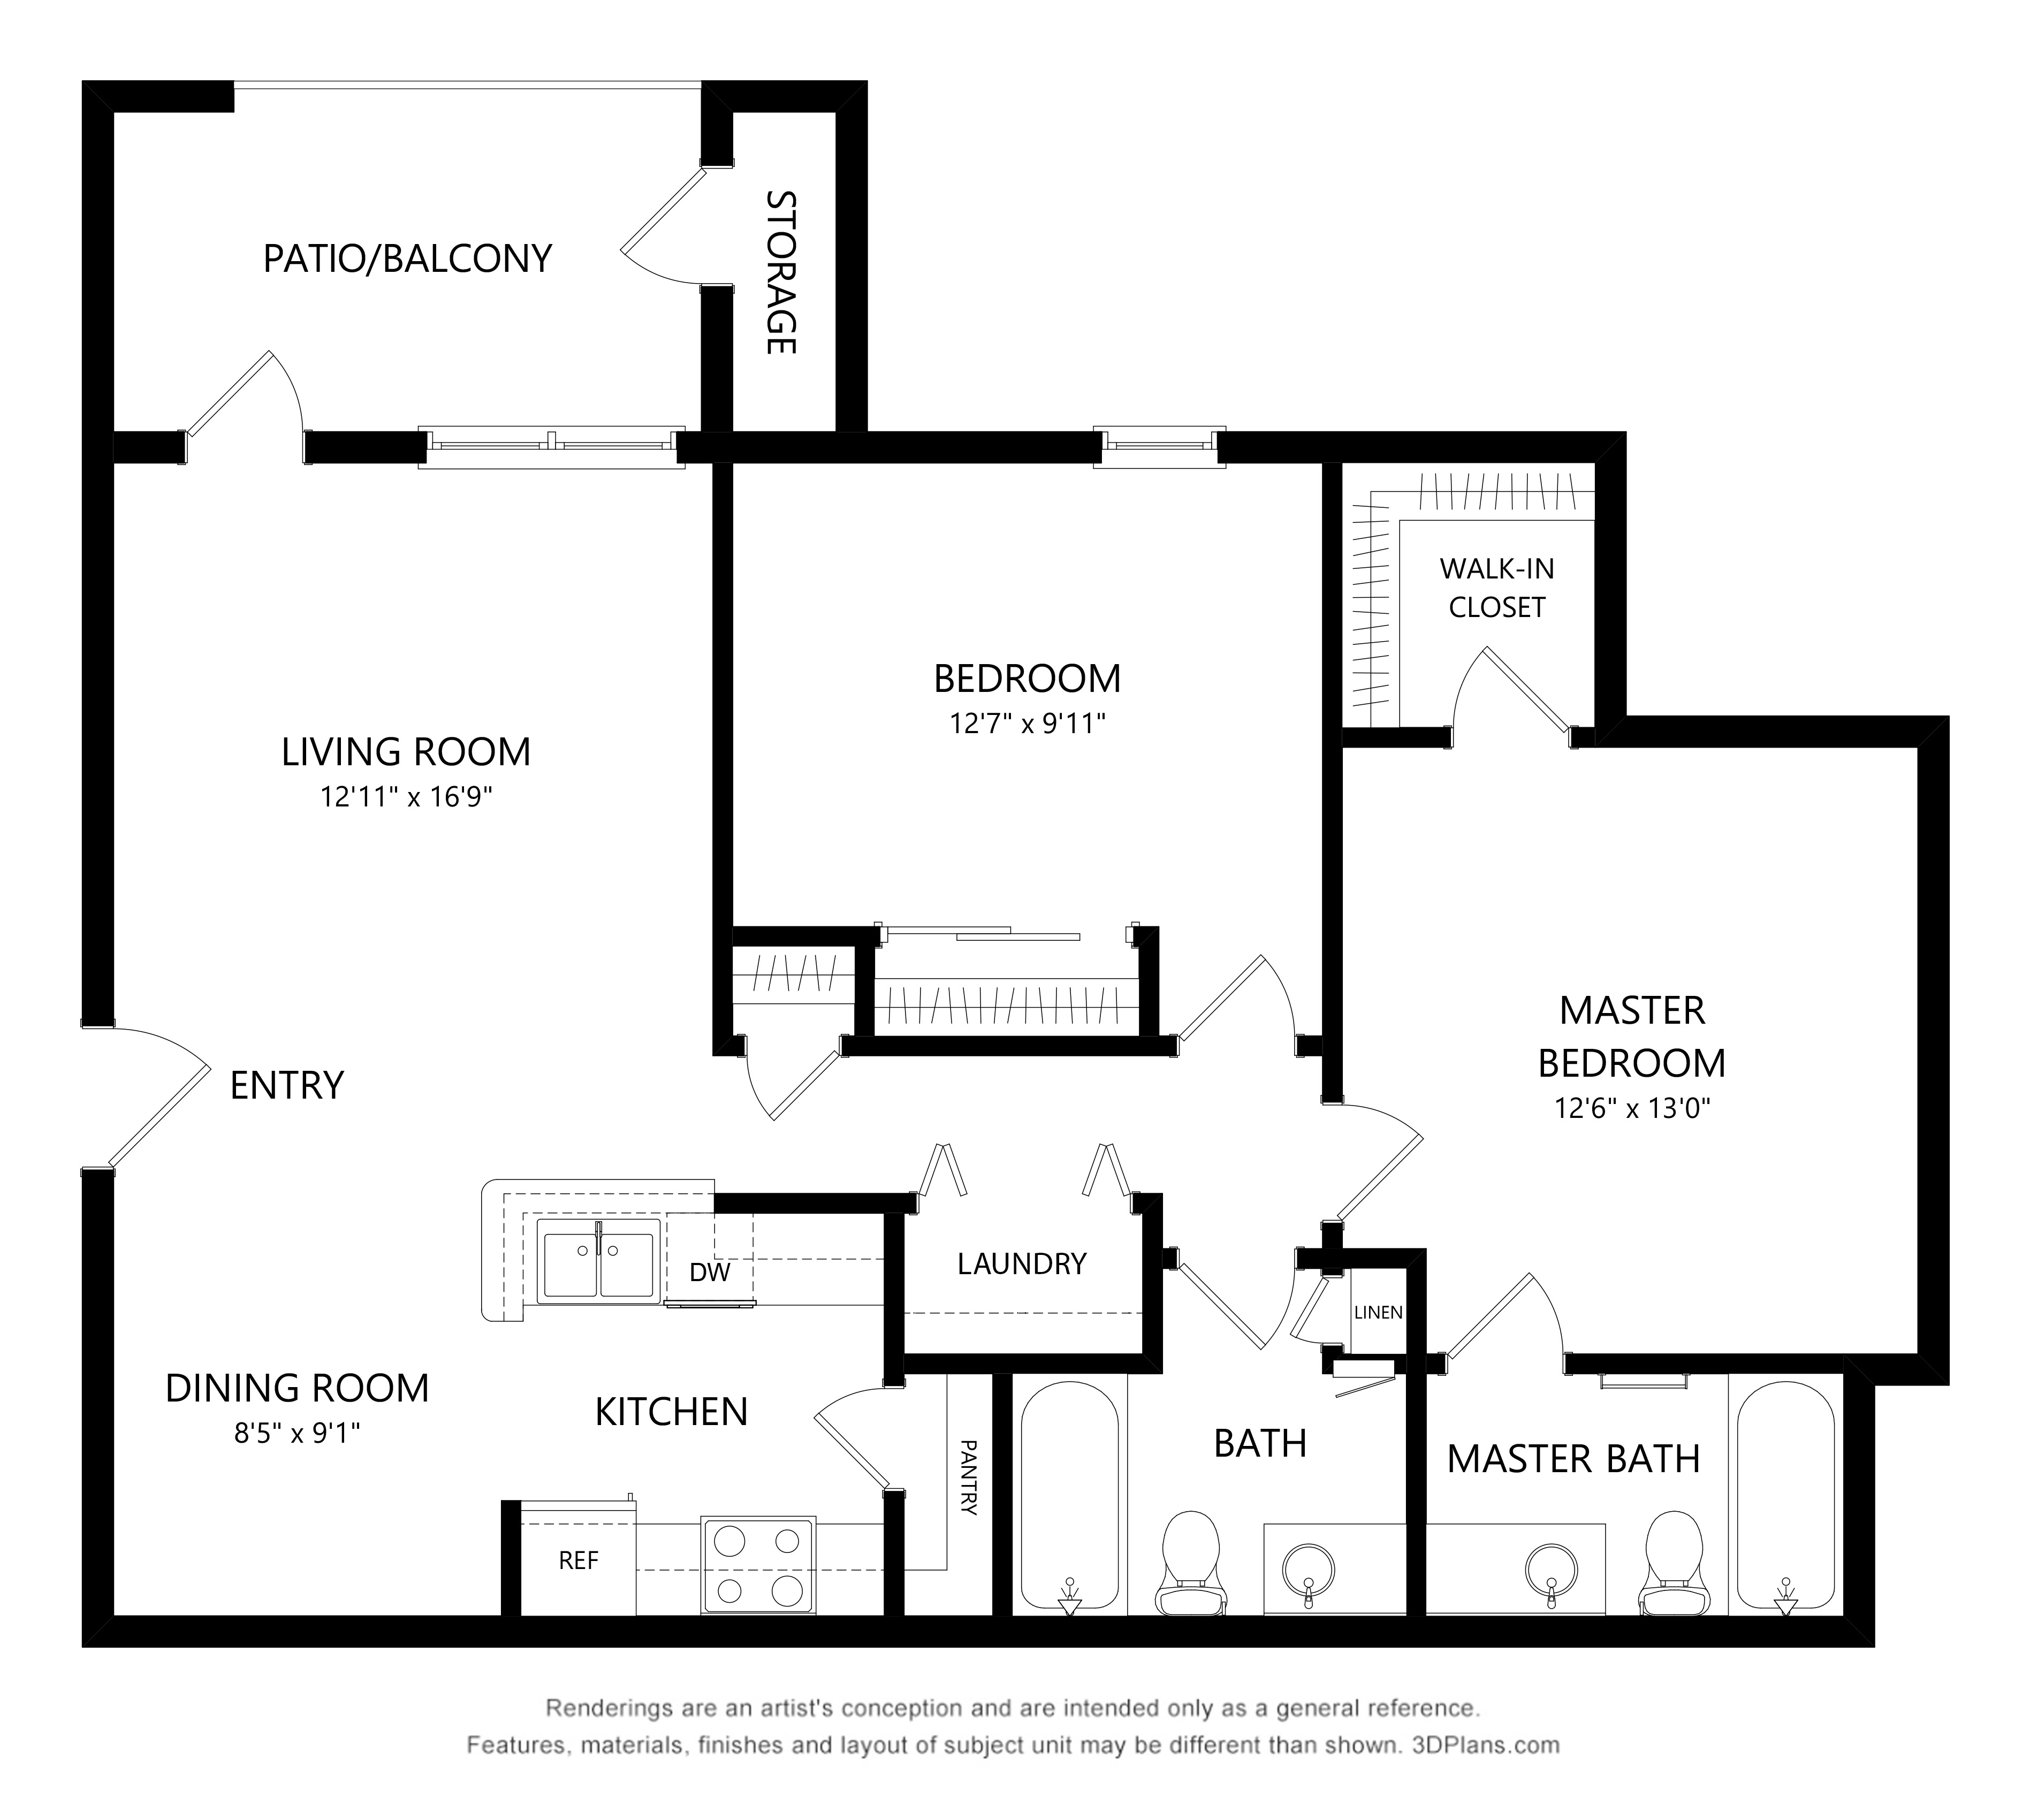room: (1315, 715, 1944, 1383), (77, 432, 742, 1054), (69, 1163, 909, 1644), (728, 423, 1346, 1054), (1397, 1351, 1877, 1655), (1000, 1356, 1431, 1648), (1325, 432, 1624, 754), (705, 79, 874, 439)
